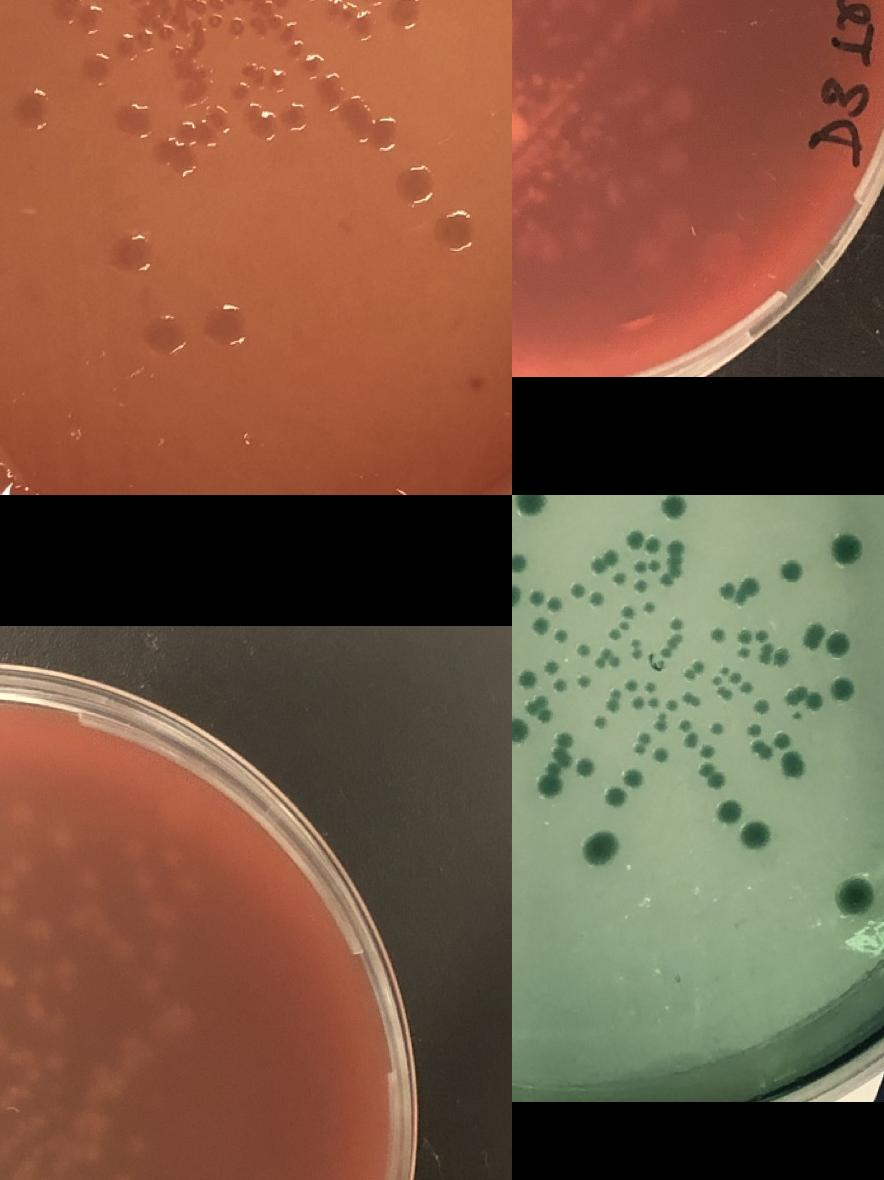pddamselae: (537, 733, 572, 800), (804, 622, 850, 657), (711, 664, 753, 696), (580, 831, 617, 867), (736, 819, 772, 855), (754, 629, 790, 665), (829, 532, 865, 568), (836, 881, 872, 917), (658, 540, 684, 588), (718, 576, 758, 605), (658, 617, 684, 660), (608, 605, 634, 642), (784, 686, 822, 710), (512, 495, 548, 519), (524, 694, 551, 723), (698, 762, 724, 790), (714, 800, 740, 826), (778, 558, 804, 584), (780, 754, 806, 780), (828, 677, 854, 703), (594, 648, 622, 671), (678, 719, 700, 748), (590, 552, 618, 574), (661, 495, 687, 518), (736, 629, 754, 660), (750, 740, 772, 762), (632, 732, 652, 756), (604, 688, 622, 714), (633, 558, 660, 575), (683, 661, 705, 681), (512, 718, 528, 744), (772, 732, 790, 752), (680, 691, 700, 708), (629, 637, 643, 660), (576, 760, 594, 776), (626, 532, 644, 548), (708, 627, 726, 643), (512, 555, 526, 575), (569, 583, 586, 599), (750, 699, 767, 715), (652, 747, 668, 763), (645, 537, 660, 553), (546, 598, 563, 612), (591, 716, 608, 730), (530, 591, 544, 607), (590, 592, 604, 608), (608, 790, 622, 806), (626, 771, 640, 787), (700, 744, 714, 759), (520, 674, 534, 688), (534, 620, 548, 634), (544, 661, 558, 675), (552, 629, 566, 643), (552, 678, 566, 692), (576, 674, 590, 688), (623, 678, 637, 692), (629, 696, 643, 710), (633, 580, 647, 594), (642, 680, 656, 694), (664, 700, 678, 714), (710, 722, 724, 736), (576, 645, 590, 658), (612, 572, 625, 586), (642, 600, 656, 613), (646, 698, 660, 711), (654, 719, 668, 732), (746, 724, 760, 737), (512, 586, 521, 606), (720, 688, 732, 702)
pdpiscicida: (10, 855, 26, 871), (0, 898, 14, 914), (0, 875, 13, 891)
tmaritimum: (244, 102, 309, 141), (702, 234, 748, 280), (174, 107, 228, 146), (45, 0, 105, 35), (12, 92, 52, 132), (112, 234, 152, 274), (146, 314, 186, 354), (395, 165, 435, 205), (436, 211, 476, 250), (206, 306, 246, 344), (78, 53, 116, 89), (156, 141, 196, 175), (118, 104, 155, 138), (385, 0, 423, 30), (116, 30, 154, 58), (635, 237, 667, 269), (656, 210, 688, 242), (658, 146, 690, 178), (660, 94, 692, 126), (370, 119, 400, 149), (316, 75, 345, 106), (341, 96, 367, 124), (240, 58, 266, 84), (325, 0, 356, 20), (270, 14, 296, 36), (248, 16, 270, 40), (512, 114, 528, 146), (635, 0, 655, 20), (610, 21, 628, 41), (581, 0, 601, 17), (156, 25, 174, 43), (168, 44, 184, 62), (304, 55, 320, 73), (206, 14, 222, 31), (229, 18, 244, 36), (231, 80, 246, 98), (191, 0, 206, 17), (270, 70, 284, 88), (287, 40, 302, 56), (359, 0, 388, 6), (203, 0, 218, 7), (272, 0, 287, 5)
